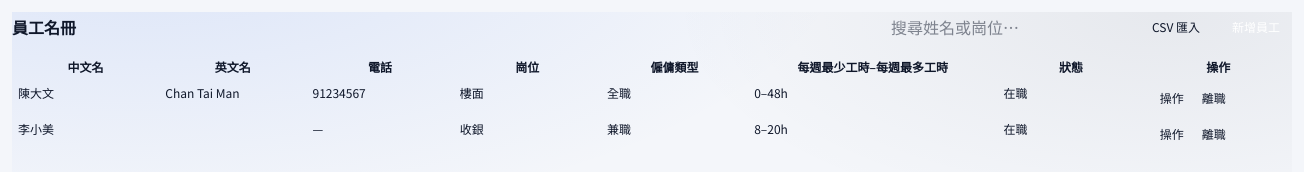
StaffPage (Task 6 contract) › search box filters by zh and en name client-side
This screenshot has width=1304, height=172.
Expected: the table with test id "staff-table" is shown, [12, 54, 1292, 152]
In the field with test id "staff-search": (1011, 27) [891, 15, 1132, 39], type "Chan"
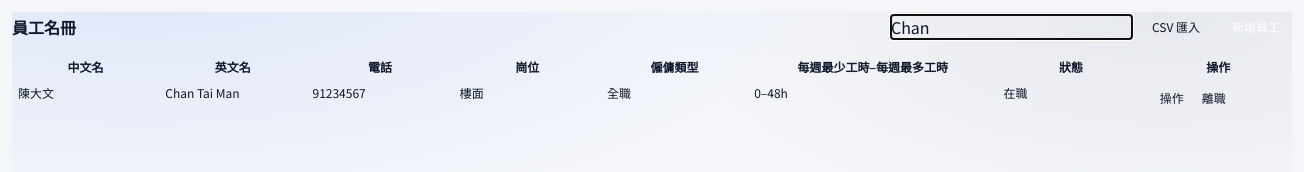
Expected: the table with test id "staff-table" shows "陳大文", [18, 84, 54, 101]
Expected: the table with test id "staff-table" does not show "李小美", [12, 54, 1292, 116]
Replace the text in the field with test id "staff-search" with "小美": (1011, 27) [891, 15, 1132, 39]
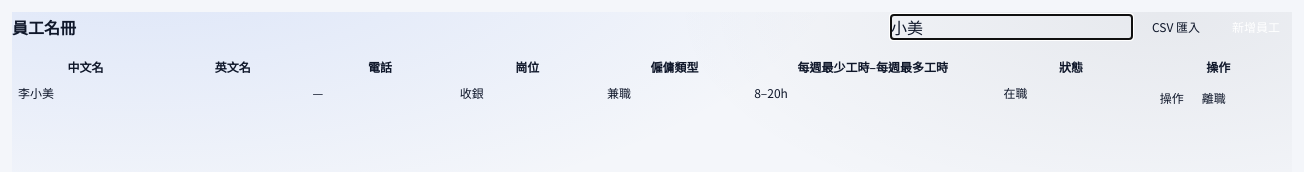
Expected: the table with test id "staff-table" shows "李小美", [18, 84, 54, 101]
Expected: the table with test id "staff-table" no longer shows "陳大文", [12, 54, 1292, 116]
